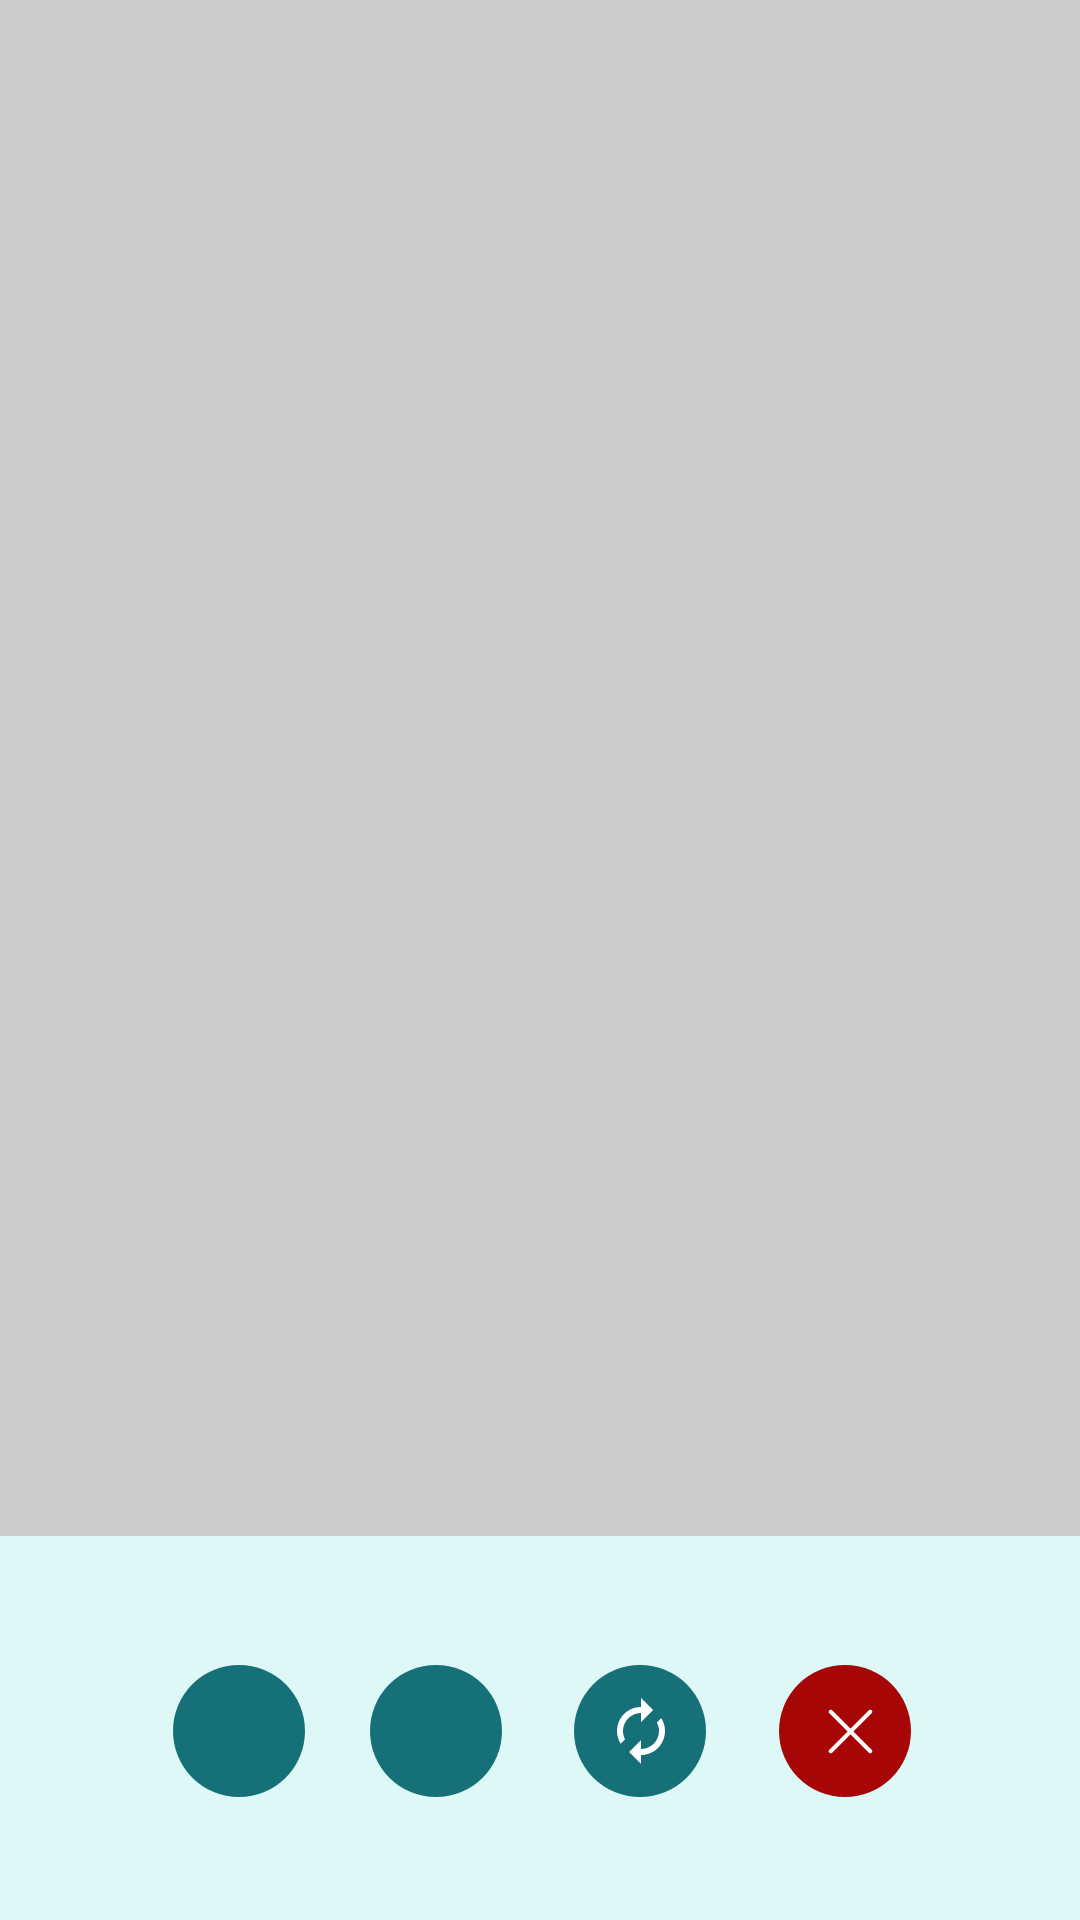

Where icons sit on this 1080 x 1920 app screen, as (x1, y1, x2, y2):
autorenew: (617, 1698, 665, 1764)
cross: (828, 1709, 873, 1754)
